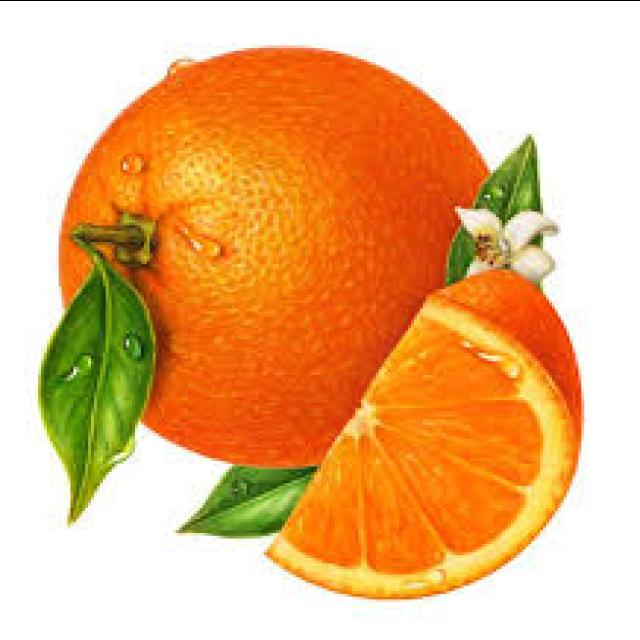orange: (57, 44, 490, 464)
